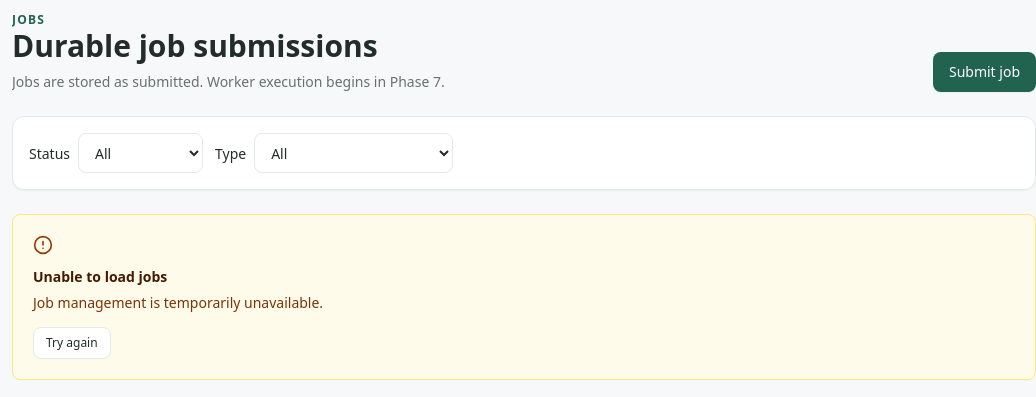
Scenario: job management › renders empty and retryable error states
Expected: the heading "Unable to load jobs" is shown, [33,267,167,286]
Click the button "Try again".
click(72, 343)  # box [33,327,111,359]
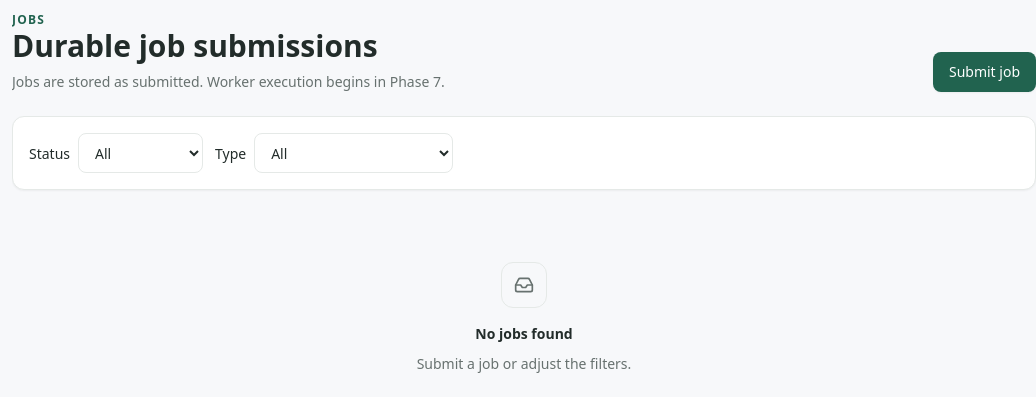
Expected: the heading "No jobs found" is shown, [475,324,573,344]
